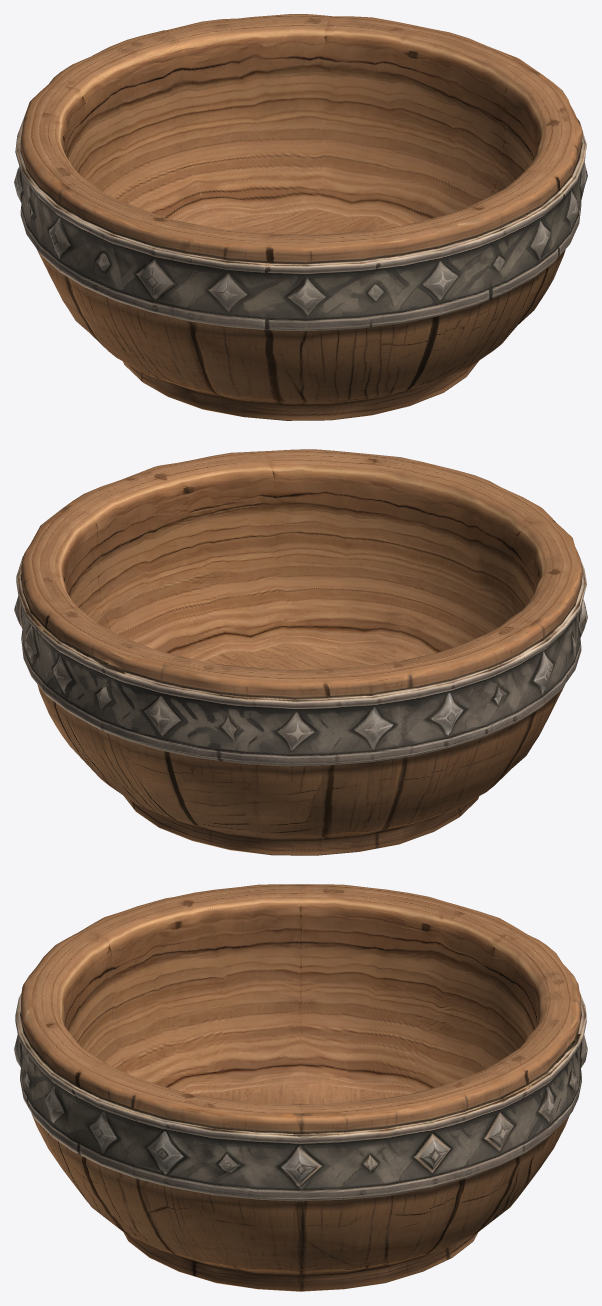
Rendered from soup_plate.fbx.
3 views of the same model, one above another, from view 1: azimuth 30°, elevation 25°; view 2: azimuth 150°, elevation 25°; view 3: azimuth 270°, elevation 25° (orthographic).
Parts seen in each view (by area): view 1: Mesh_0; view 2: Mesh_0; view 3: Mesh_0.
Part boxes in pixels (box(x1,y1,x2,y2)): Mesh_0: box(14, 14, 587, 420); Mesh_0: box(14, 449, 587, 855); Mesh_0: box(14, 884, 587, 1291).
Bounding box in the file's own units: 40 × 16.56 × 40.
1 material, 1 textured.
